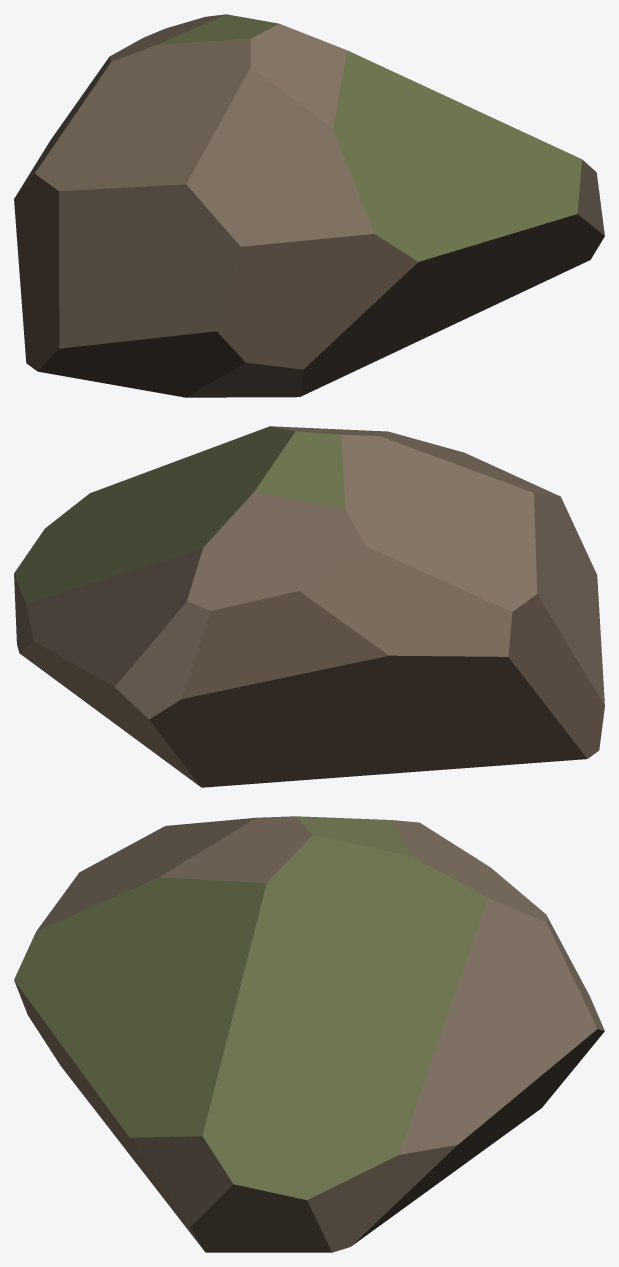
The model's file is low_poly_rock.glb.
3 renders of one model, top to bottom at view 1: azimuth 30°, elevation 25°; view 2: azimuth 150°, elevation 25°; view 3: azimuth 270°, elevation 25°, orthographic. The views are drawn at different scales.
Parts seen in each view (by area): view 1: low_poly_rock; view 2: low_poly_rock; view 3: low_poly_rock.
Boxes of the visible parts, left/top/right/bottom form: low_poly_rock: left=14, top=14, right=604, bottom=397; low_poly_rock: left=14, top=426, right=604, bottom=787; low_poly_rock: left=14, top=816, right=604, bottom=1252.
Size of the model in its own units: 2.92 by 1.34 by 2.55.
